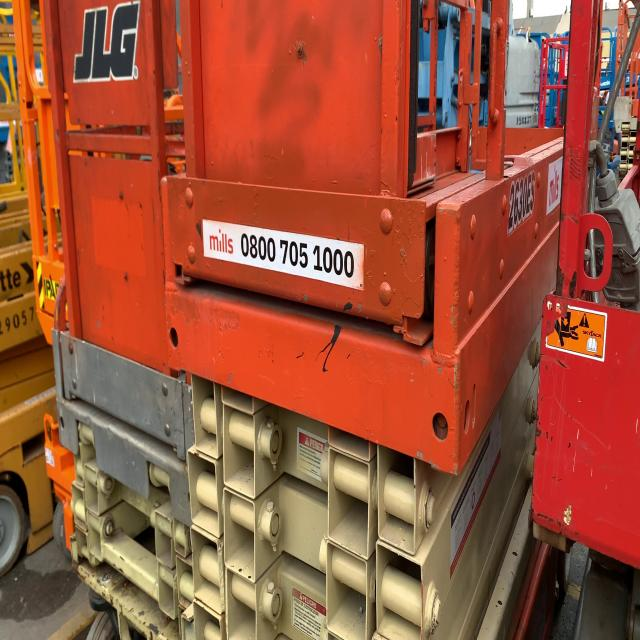Adesivo Longo: (201, 218, 366, 293)
